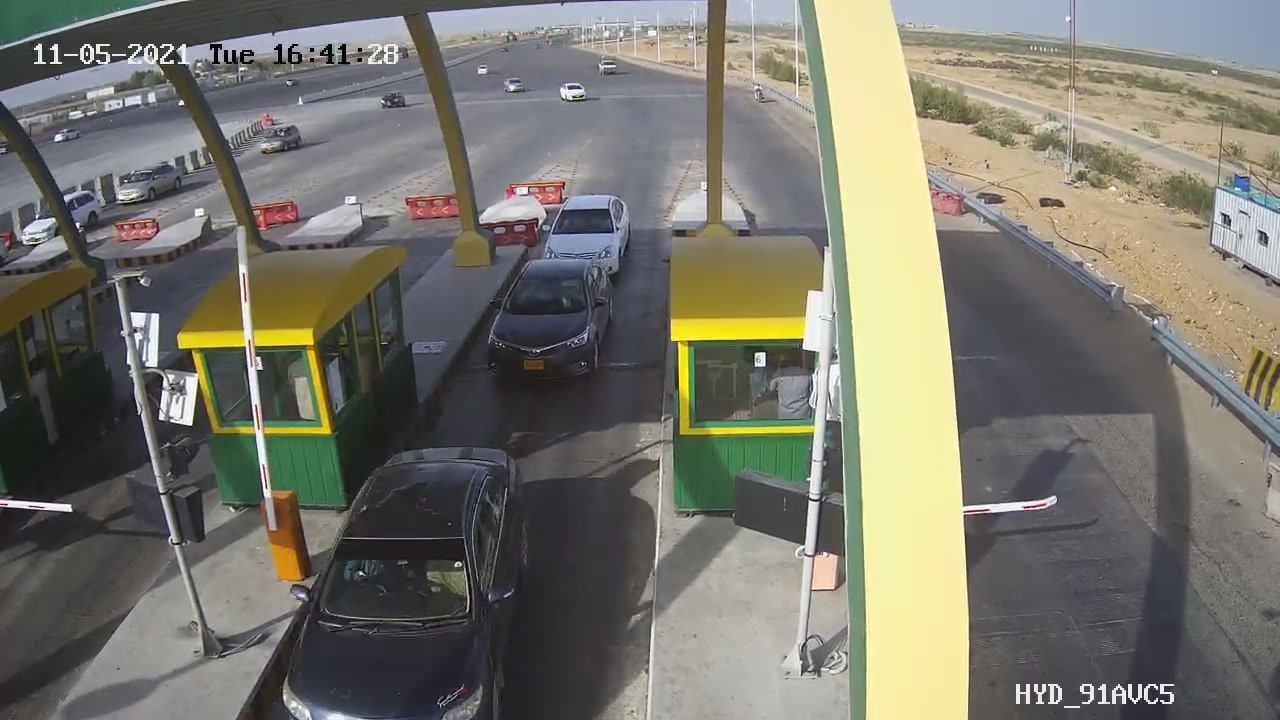F1: (463, 249, 633, 393), (523, 182, 655, 289)
